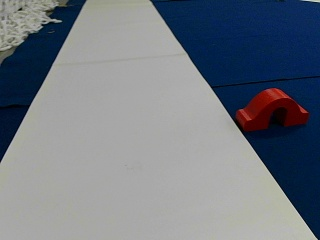bridge: (237, 88, 307, 128)
